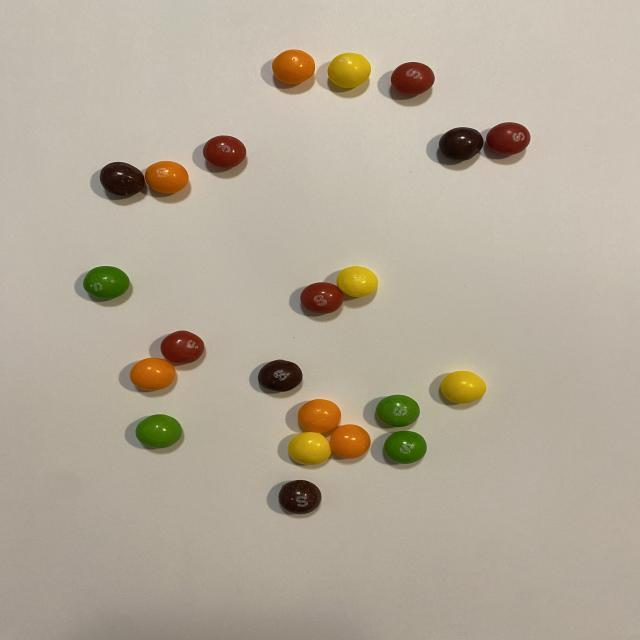smartie: (98, 162, 145, 197), (440, 371, 487, 405), (82, 266, 129, 300), (327, 52, 371, 88), (135, 415, 181, 449), (390, 61, 435, 95), (129, 358, 175, 391), (272, 49, 315, 84), (486, 122, 531, 155), (297, 399, 340, 433), (439, 127, 483, 160), (383, 431, 427, 464), (257, 360, 302, 392), (203, 135, 246, 168), (160, 331, 203, 364), (288, 432, 331, 465), (376, 395, 420, 427), (144, 161, 188, 193), (329, 425, 370, 459), (300, 282, 343, 314), (279, 481, 320, 514), (336, 266, 378, 297)
